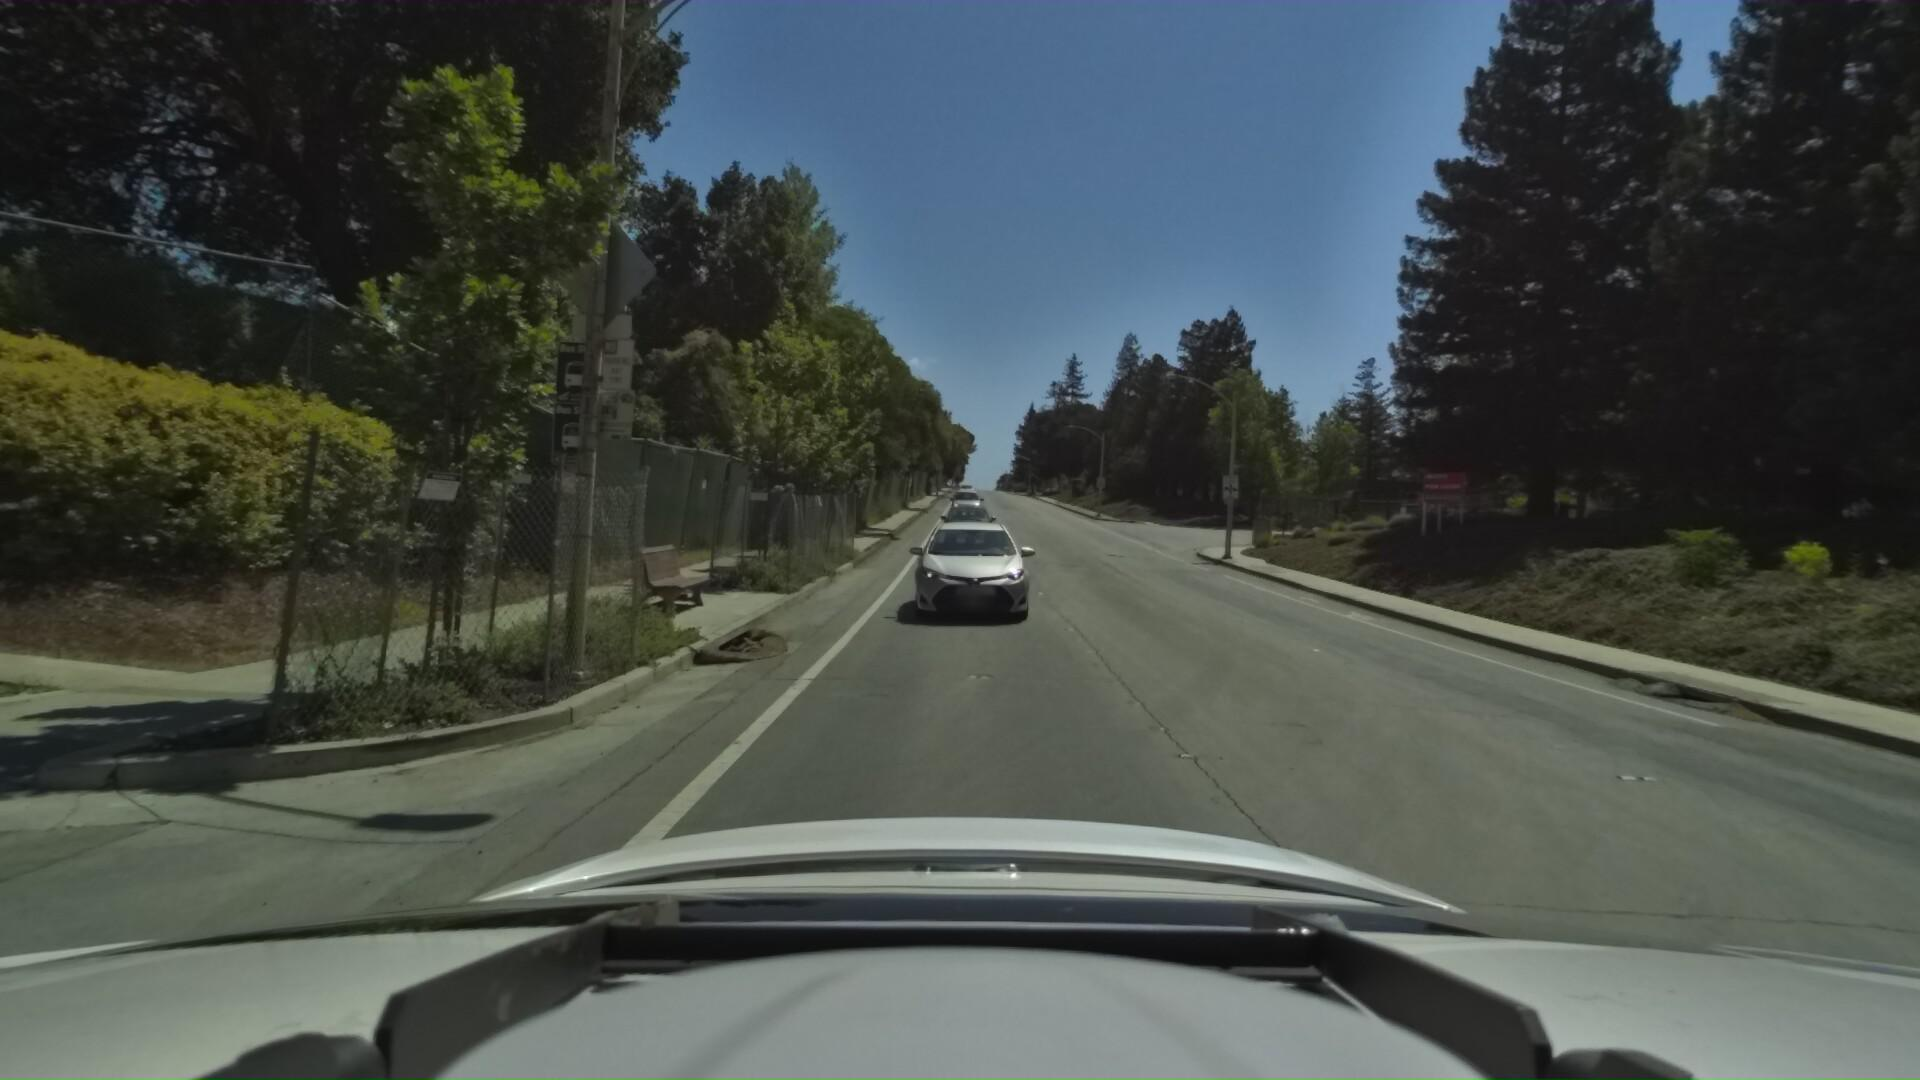car: (905, 502, 1040, 626), (935, 498, 992, 549), (947, 484, 982, 521)
